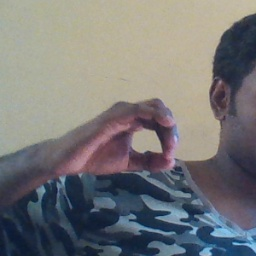O: (60, 96, 183, 178)
